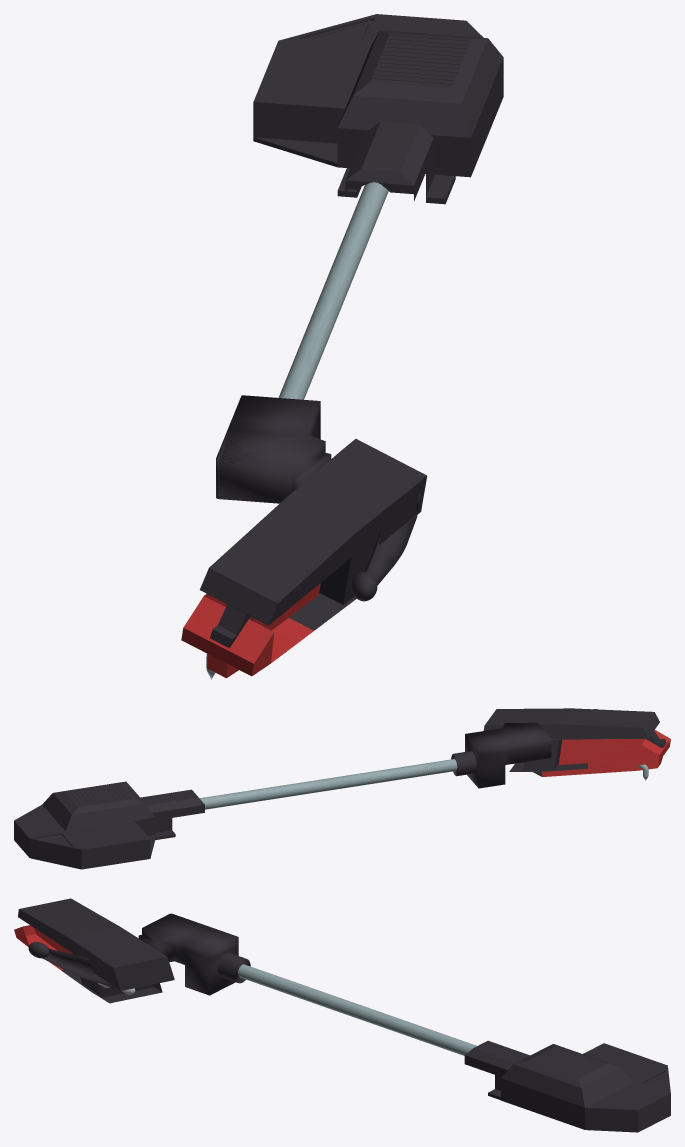
File: tonearm.glb
The picture shows the model from 3 angles, top to bottom: view 1: azimuth 30°, elevation 25°; view 2: azimuth 150°, elevation 25°; view 3: azimuth 270°, elevation 25°; orthographic projection. The views are drawn at different scales.
Parts seen in each view (by area): view 1: head, counterweight, head 2, counterweight 2, tonearm; view 2: counterweight, head, tonearm, head 2, counterweight 2; view 3: counterweight, head, head 2, tonearm, counterweight 2.
Part boxes in pixels (box(x1,y1,x2,y2)): head: box(181, 439, 427, 678); counterweight: box(253, 14, 503, 177); head 2: box(216, 395, 331, 503); counterweight 2: box(337, 121, 455, 204); tonearm: box(278, 182, 388, 399); counterweight: box(14, 781, 155, 869); head: box(483, 708, 670, 776); tonearm: box(200, 751, 476, 809); head 2: box(465, 722, 551, 788); counterweight 2: box(140, 789, 204, 839); counterweight: box(501, 1043, 670, 1132); head: box(14, 898, 174, 1003); head 2: box(138, 913, 238, 995); tonearm: box(218, 953, 476, 1055); counterweight 2: box(464, 1040, 529, 1100).
Bounding box in the file's own units: 1.55 × 0.2571 × 1.97.
4 materials, 4 textured.
